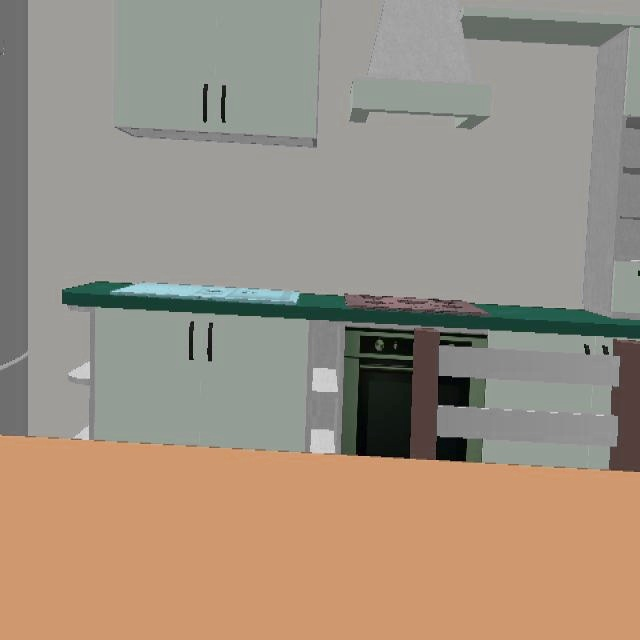cabinet: (461, 7, 640, 323), (67, 308, 346, 453), (111, 0, 322, 149), (486, 379, 612, 416), (483, 440, 610, 469), (489, 331, 613, 356)
chair: (410, 328, 640, 472)
countertop: (62, 283, 640, 340)
oven: (341, 328, 414, 459), (438, 376, 486, 407), (437, 437, 483, 461), (440, 332, 488, 348)
stove: (343, 295, 488, 315)
